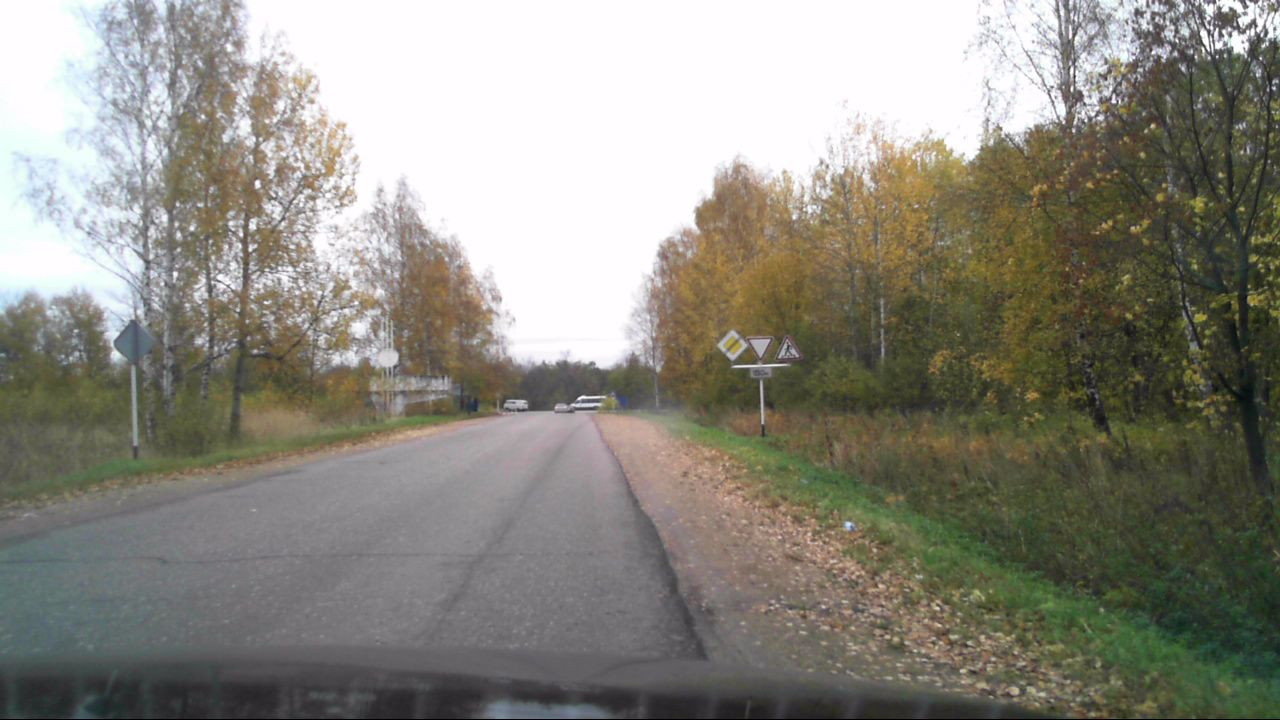main road: (716, 330, 747, 363)
